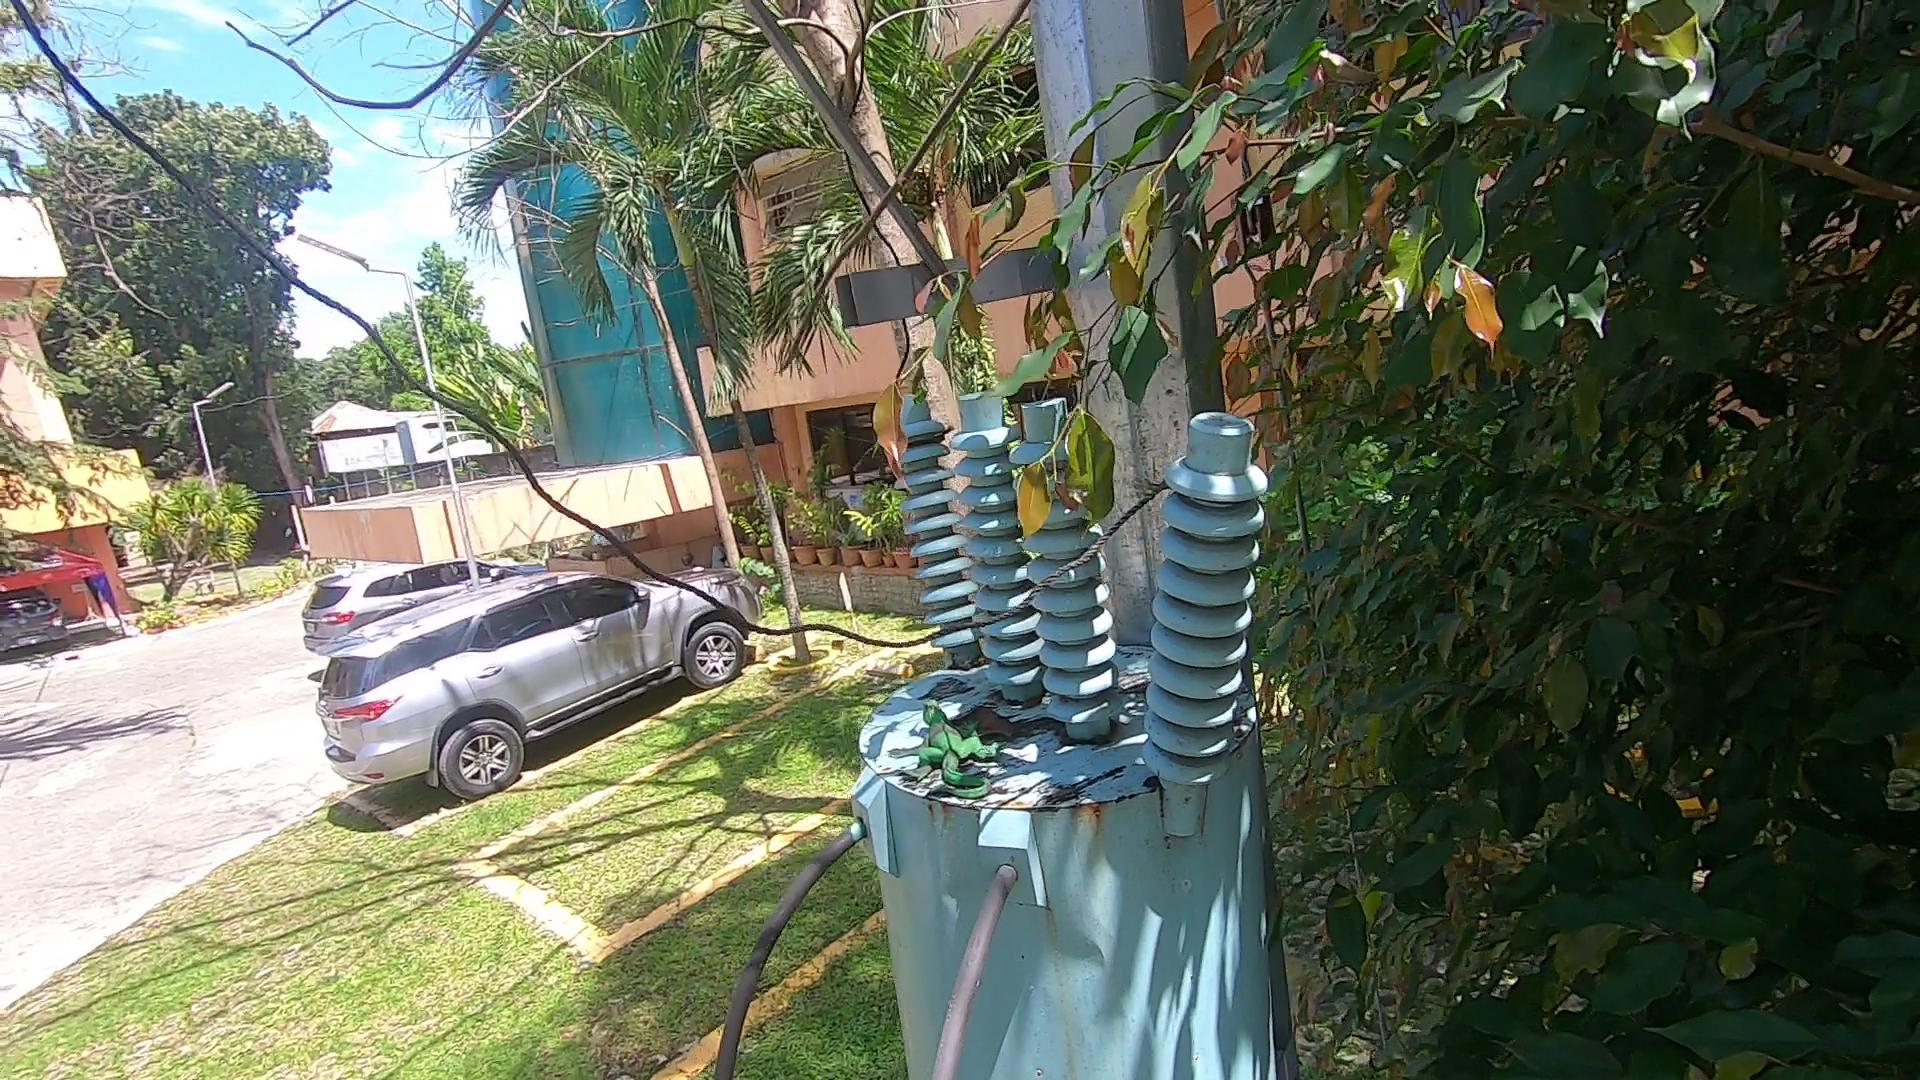leaf: (957, 700, 1039, 750)
tree branch: (770, 1, 1050, 388)
